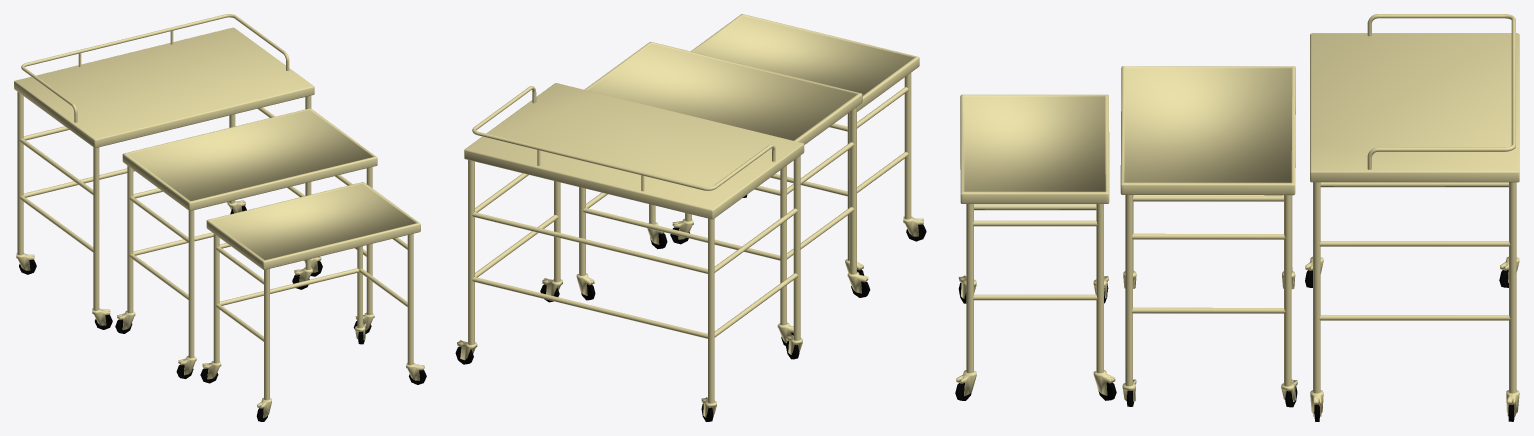
File: OPcarts.fbx
3 renders of one model, left to right at view 1: azimuth 30°, elevation 25°; view 2: azimuth 150°, elevation 25°; view 3: azimuth 270°, elevation 25°, orthographic. The views are drawn at different scales.
Visible parts, largest first — view 1: pCube4, pCube2, polySurface31; view 2: pCube4, pCube2, polySurface31; view 3: pCube4, pCube2, polySurface31.
Part boxes in pixels (bbox=[...]): pCube4: bbox=[14, 14, 322, 329]; pCube2: bbox=[115, 108, 377, 378]; polySurface31: bbox=[200, 182, 426, 421]; pCube4: bbox=[455, 83, 804, 421]; pCube2: bbox=[576, 42, 870, 345]; polySurface31: bbox=[670, 14, 926, 275]; pCube4: bbox=[1305, 14, 1519, 421]; pCube2: bbox=[1120, 66, 1297, 407]; polySurface31: bbox=[955, 94, 1116, 400].
Size of the model in its own units: 100 by 86.68 by 164.
